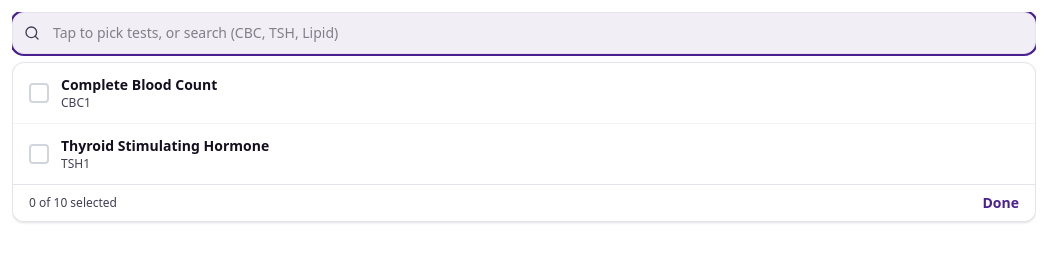
Test case: TestSelector › opens the catalog on tap and keeps it open while several tests are ticked
The image size is (1048, 280).
What coordinates should you click on to do the following:
click the button "Complete Blood Count CBC1"
I would click on:
 (139, 84)
Its box is [13,63,1035,123].
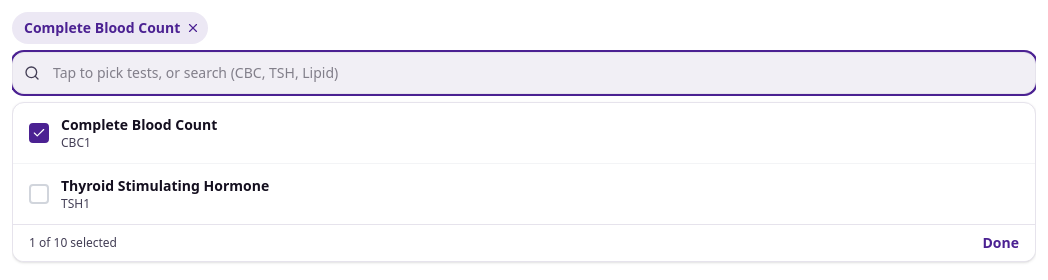
What coordinates should you click on to do the following:
click the button "Thyroid Stimulating Hormone TSH1"
I would click on:
 (165, 186)
Its box is [13,164,1035,224].
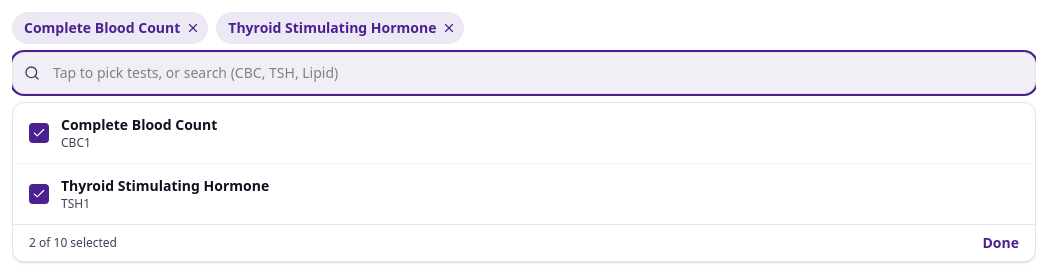
Expected: the list named "Selected tests" shows "Complete Blood Count", [24,18,180,37]
Expected: the text "2 of 10 selected" is shown, [29,235,117,251]
